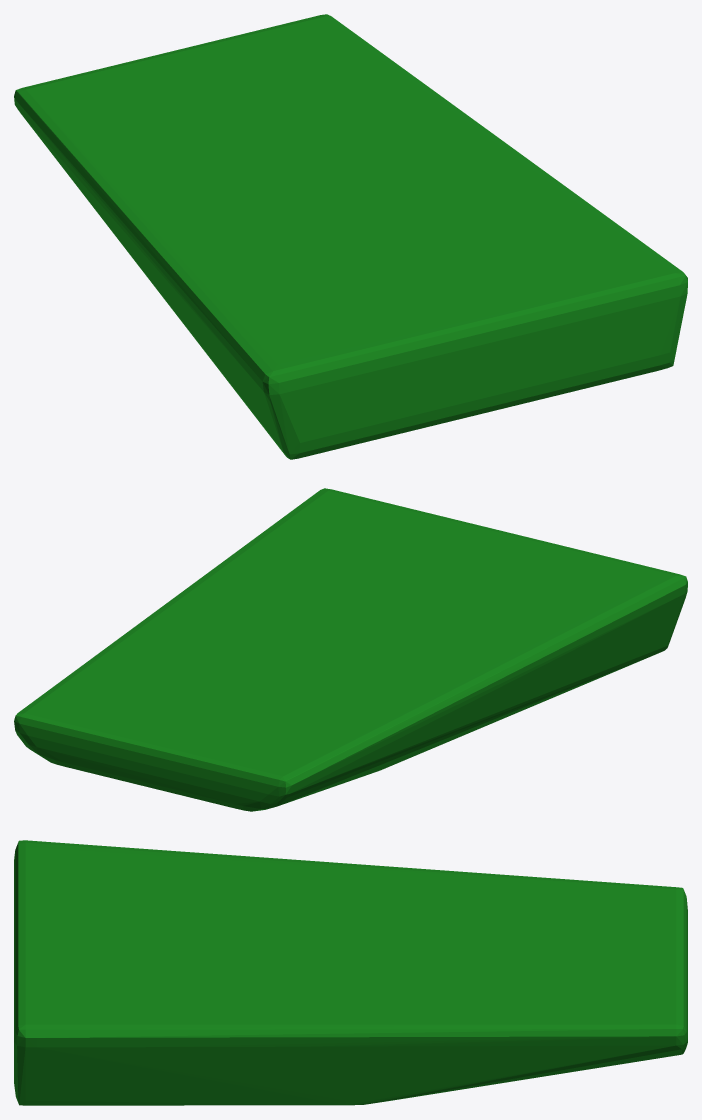
The model's file is left_hip_pitch_link_part_8.obj.
3 views of the same model, one above another, from view 1: azimuth 30°, elevation 25°; view 2: azimuth 150°, elevation 25°; view 3: azimuth 270°, elevation 25° (orthographic). The views are drawn at different scales.
Size of the model in its own units: 0.0874 by 0.0179 by 0.129.
